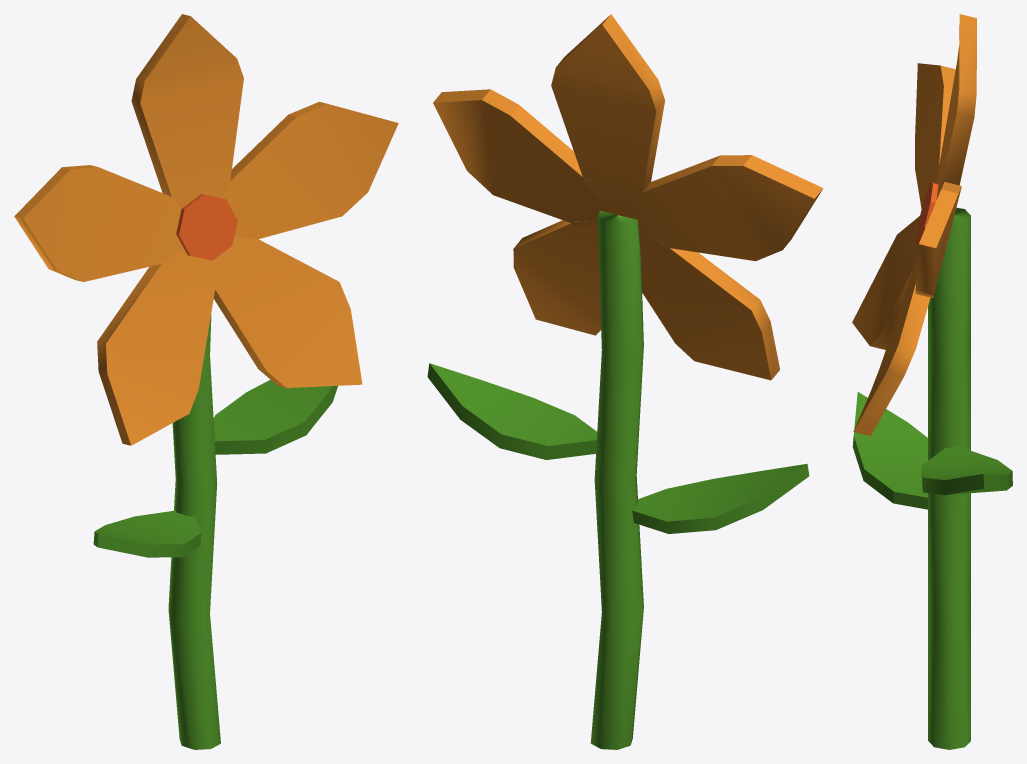
Rendered from Flower_Orange_6.fbx.
3 renders of one model, left to right at view 1: azimuth 30°, elevation 25°; view 2: azimuth 150°, elevation 25°; view 3: azimuth 270°, elevation 25°, orthographic.
Visible parts, largest first — view 1: Cube.094, Cylinder.623, Plane.194, Plane.195, Cylinder.620; view 2: Cube.094, Cylinder.623, Plane.194, Plane.195; view 3: Cylinder.623, Cube.094, Plane.195, Plane.194, Cylinder.620.
Part boxes in pixels (left/top/right/bottom): Cube.094: left=14, top=14, right=398, bottom=445; Cylinder.623: left=168, top=314, right=220, bottom=749; Plane.194: left=213, top=379, right=337, bottom=454; Plane.195: left=93, top=510, right=201, bottom=557; Cylinder.620: left=176, top=194, right=237, bottom=260; Cube.094: left=433, top=14, right=823, bottom=380; Cylinder.623: left=590, top=210, right=643, bottom=749; Plane.194: left=427, top=363, right=597, bottom=459; Plane.195: left=632, top=463, right=809, bottom=533; Cylinder.623: left=928, top=207, right=970, bottom=749; Cube.094: left=852, top=14, right=976, bottom=435; Plane.195: left=852, top=392, right=927, bottom=509; Plane.194: left=921, top=446, right=1012, bottom=494; Cylinder.620: left=915, top=182, right=938, bottom=244.
Bounding box in the file's own units: 71.56 × 131 × 26.41.
